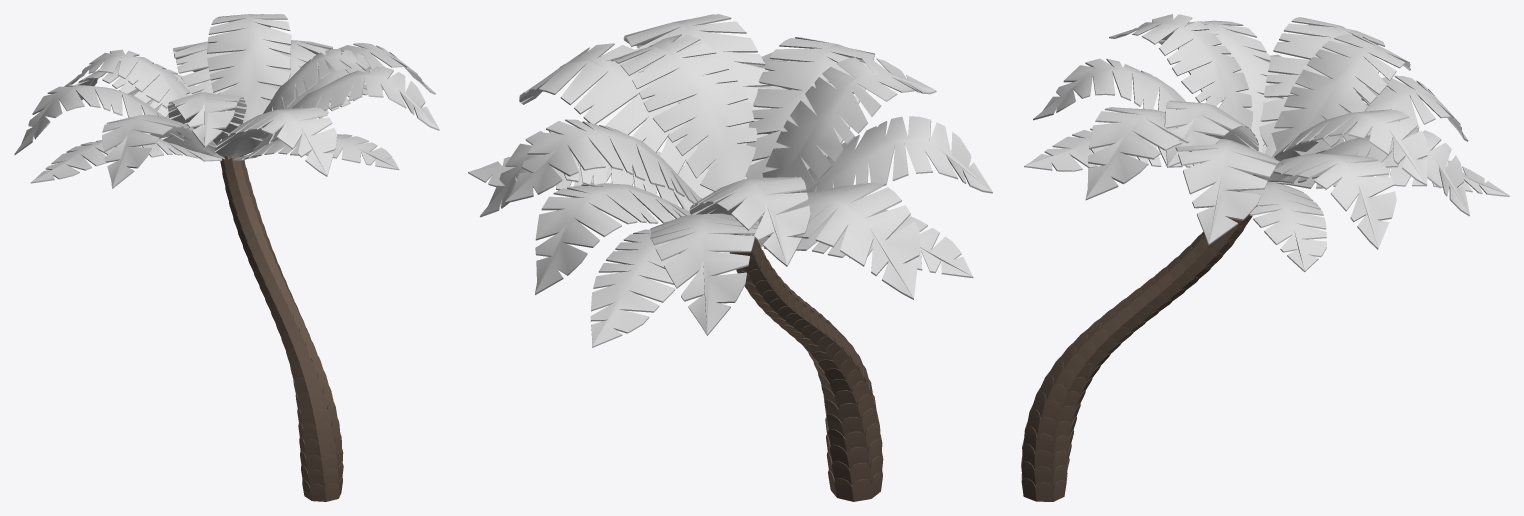
File: palm 1.fbx
3 views of the same model, side by side, from view 1: azimuth 30°, elevation 25°; view 2: azimuth 150°, elevation 25°; view 3: azimuth 270°, elevation 25° (orthographic). The views are drawn at different scales.
Parts seen in each view (by area): view 1: leaves, tronc; view 2: leaves, tronc; view 3: leaves, tronc.
Part boxes in pixels (bbox=[...]): leaves: bbox=[14, 14, 439, 188]; tronc: bbox=[220, 156, 343, 501]; leaves: bbox=[468, 14, 992, 347]; tronc: bbox=[729, 234, 883, 501]; leaves: bbox=[1024, 14, 1509, 271]; tronc: bbox=[1021, 191, 1256, 501].
Bounding box in the file's own units: 1570 × 1491 × 1522.
